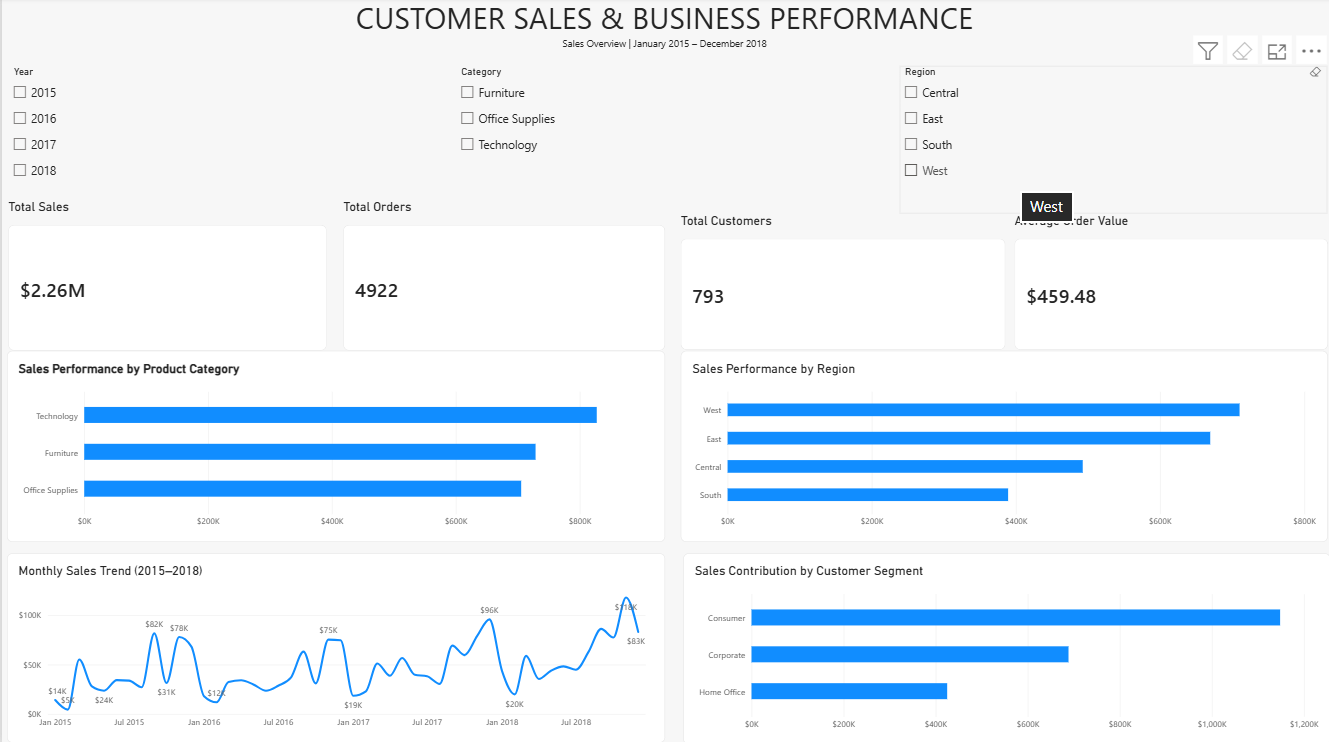

Layout of this report page (visuals, bound fields, positions):
{"tool":"powerbi","page":{"name":"Page 1","canvas":[1920,1080],"ordinal":0},"visuals":[{"type":"cardVisual","title":"Total Sales","fields":{"Data":["Sum(sales_data_clean.Sales)"]},"box":[9.2,293.1,461.5,219.2],"z":0},{"type":"cardVisual","title":"Total Orders","fields":{"Data":["Count(sales_data_clean.Order ID)"]},"box":[493.8,293.1,466.2,219.2],"z":1},{"type":"cardVisual","title":"Total Customers","fields":{"Data":["Count(sales_data_clean.Customer ID)"]},"box":[983.1,313.8,470.8,198.5],"z":2},{"type":"cardVisual","title":"Average Order Value","fields":{"Data":["sales_data_clean.Average Order Value Correct"]},"box":[1465.4,313.8,454.6,198.5],"z":3},{"type":"clusteredBarChart","title":"Sales Performance by Product Category","fields":{"Category":["sales_data_clean.Category"],"Y":["Sum(sales_data_clean.Sales)"]},"box":[6.9,512.3,953.1,276.9],"z":4},{"type":"lineChart","title":"Monthly Sales Trend (2015–2018)","fields":{"Category":["sales_data_clean.Order Date.Variation.Date Hierarchy.Year","sales_data_clean.Order Date.Variation.Date Hierarchy.Month"],"Y":["Sum(sales_data_clean.Sales)"]},"box":[6.9,805.4,953.1,274.6],"z":5},{"type":"clusteredBarChart","title":"Sales Contribution by Customer Segment","fields":{"Category":["sales_data_clean.Segment"],"Y":["Sum(sales_data_clean.Sales)"]},"box":[985.4,805.4,936.9,276.9],"z":6},{"type":"clusteredBarChart","title":"Sales Performance by Region","fields":{"Category":["sales_data_clean.Region"],"Y":["Sum(sales_data_clean.Sales)"]},"box":[983.1,512.3,936.9,276.9],"z":7},{"type":"textbox","box":[0,0,1918.4,99.9],"z":8},{"type":"slicer","fields":{"Values":["sales_data_clean.Region"]},"box":[1299.2,99.2,618.5,214.6],"z":9},{"type":"slicer","fields":{"Values":["sales_data_clean.Category"]},"box":[657.7,99.2,609.2,214.6],"z":10},{"type":"slicer","fields":{"Values":["sales_data_clean.Order Date.Variation.Date Hierarchy.Year"]},"box":[9.2,99.2,648.5,214.6],"z":11}]}

Visuals, with their boxes in screenshot pixels (x1, y1, x2, y2), scaled from the page's 1920x1080 canvas onto the 1329x742 screenshot:
"Total Sales" cardVisual: detection(6, 201, 326, 352)
"Total Orders" cardVisual: detection(342, 201, 664, 352)
"Total Customers" cardVisual: detection(680, 216, 1006, 352)
"Average Order Value" cardVisual: detection(1014, 216, 1328, 352)
"Sales Performance by Product Category" clusteredBarChart: detection(5, 352, 664, 542)
"Monthly Sales Trend (2015–2018)" lineChart: detection(5, 553, 664, 741)
"Sales Contribution by Customer Segment" clusteredBarChart: detection(682, 553, 1328, 741)
"Sales Performance by Region" clusteredBarChart: detection(680, 352, 1328, 542)
textbox: detection(0, 0, 1328, 69)
slicer - sales_data_clean.Region: detection(899, 68, 1327, 216)
slicer - sales_data_clean.Category: detection(455, 68, 877, 216)
slicer - sales_data_clean.Order Date.Variation.Date Hierarchy.Year: detection(6, 68, 455, 216)
